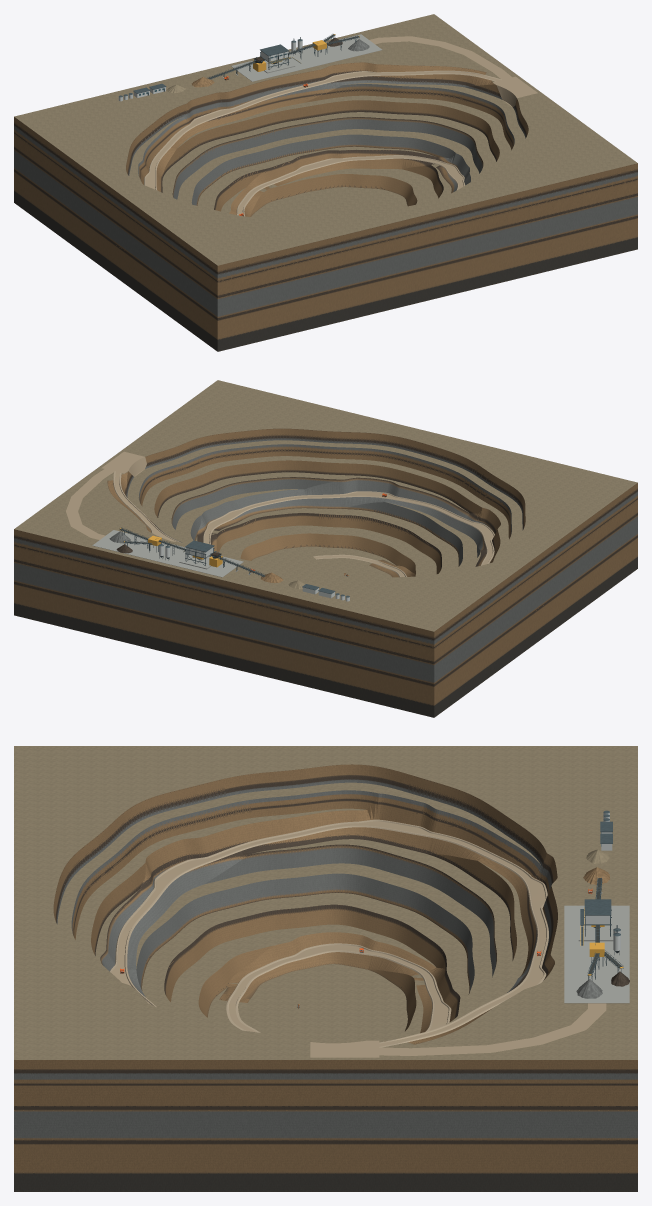
File: quarry-v4.glb
The picture shows the model from 3 angles, top to bottom: view 1: azimuth 30°, elevation 25°; view 2: azimuth 150°, elevation 25°; view 3: azimuth 270°, elevation 25°; orthographic projection. The views are drawn at different scales.
Parts seen in each view (by area): view 1: GEO_001 / solid terraced ground, SITE_001 / yard and service infrastructure, PLANT_002 / crusher cladding and machinery, STOCK_001 / crushed aggregate stockpiles; view 2: GEO_001 / solid terraced ground, SITE_001 / yard and service infrastructure, PLANT_002 / crusher cladding and machinery, STOCK_001 / crushed aggregate stockpiles; view 3: GEO_001 / solid terraced ground, SITE_001 / yard and service infrastructure, PLANT_002 / crusher cladding and machinery, STOCK_001 / crushed aggregate stockpiles.
Boxes of the visible parts, left/top/right/bottom form: GEO_001 / solid terraced ground: left=14, top=14, right=637, bottom=351; SITE_001 / yard and service infrastructure: left=222, top=34, right=382, bottom=81; PLANT_002 / crusher cladding and machinery: left=118, top=37, right=326, bottom=101; STOCK_001 / crushed aggregate stockpiles: left=166, top=37, right=369, bottom=93; GEO_001 / solid terraced ground: left=14, top=380, right=637, bottom=717; SITE_001 / yard and service infrastructure: left=92, top=530, right=250, bottom=577; PLANT_002 / crusher cladding and machinery: left=148, top=535, right=349, bottom=601; STOCK_001 / crushed aggregate stockpiles: left=109, top=531, right=305, bottom=589; GEO_001 / solid terraced ground: left=14, top=746, right=637, bottom=1191; SITE_001 / yard and service infrastructure: left=564, top=892, right=629, bottom=1003; PLANT_002 / crusher cladding and machinery: left=584, top=810, right=620, bottom=956; STOCK_001 / crushed aggregate stockpiles: left=576, top=849, right=629, bottom=998.
Bounding box in the file's own units: 1000 × 233 × 840.
45 materials, 7 textured.
